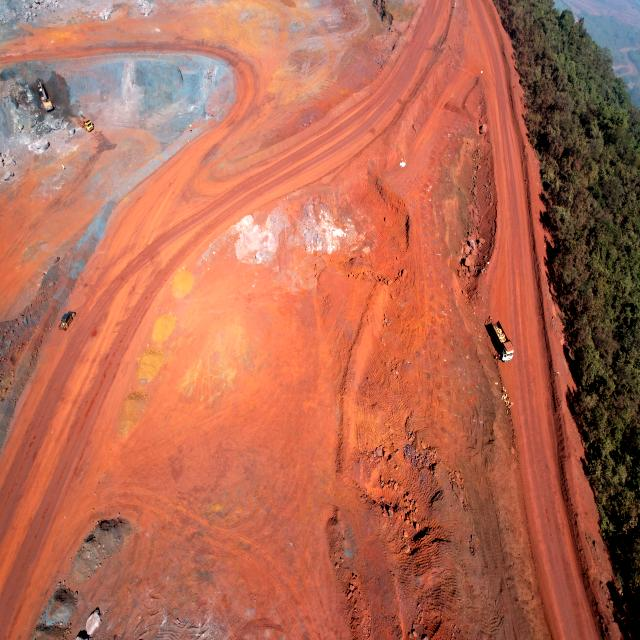Dumper truck: (488, 319, 514, 364), (78, 114, 94, 132)
Excavator: (36, 80, 56, 110)
car: (60, 311, 76, 330)
